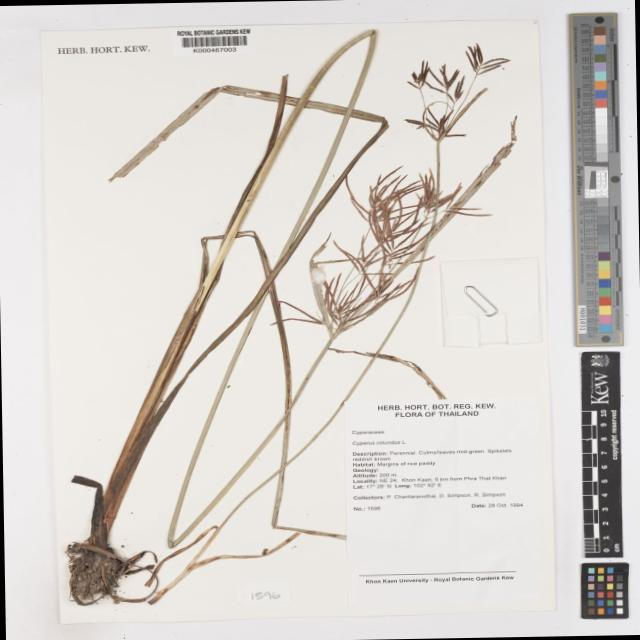cyperus: (288, 168, 454, 318), (389, 44, 513, 154)
